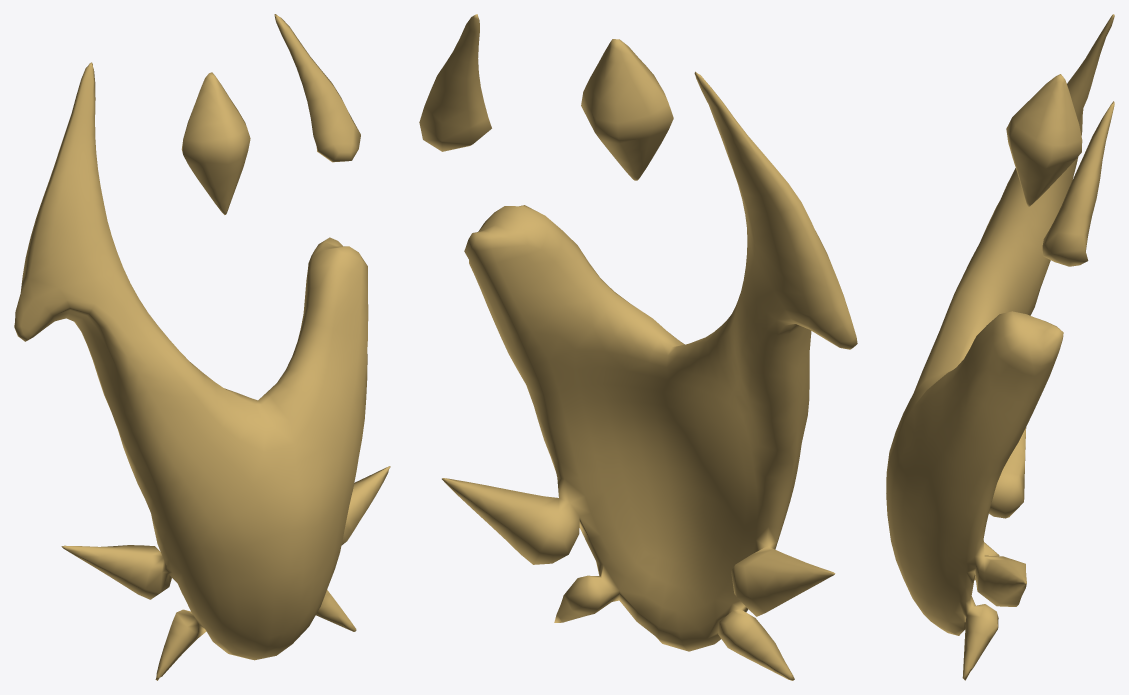
The model's file is solidmask_low.fbx.
3 views of the same model, side by side, from view 1: azimuth 30°, elevation 25°; view 2: azimuth 150°, elevation 25°; view 3: azimuth 270°, elevation 25° (orthographic). The views are drawn at different scales.
Visible parts, largest first — view 1: solidmask_low; view 2: solidmask_low; view 3: solidmask_low.
Part boxes in pixels (x1,y1,x2,y2): solidmask_low: [14, 14, 390, 680]; solidmask_low: [419, 14, 857, 680]; solidmask_low: [886, 14, 1114, 680].
Size of the model in its own units: 34.05 by 50.94 by 18.32.
